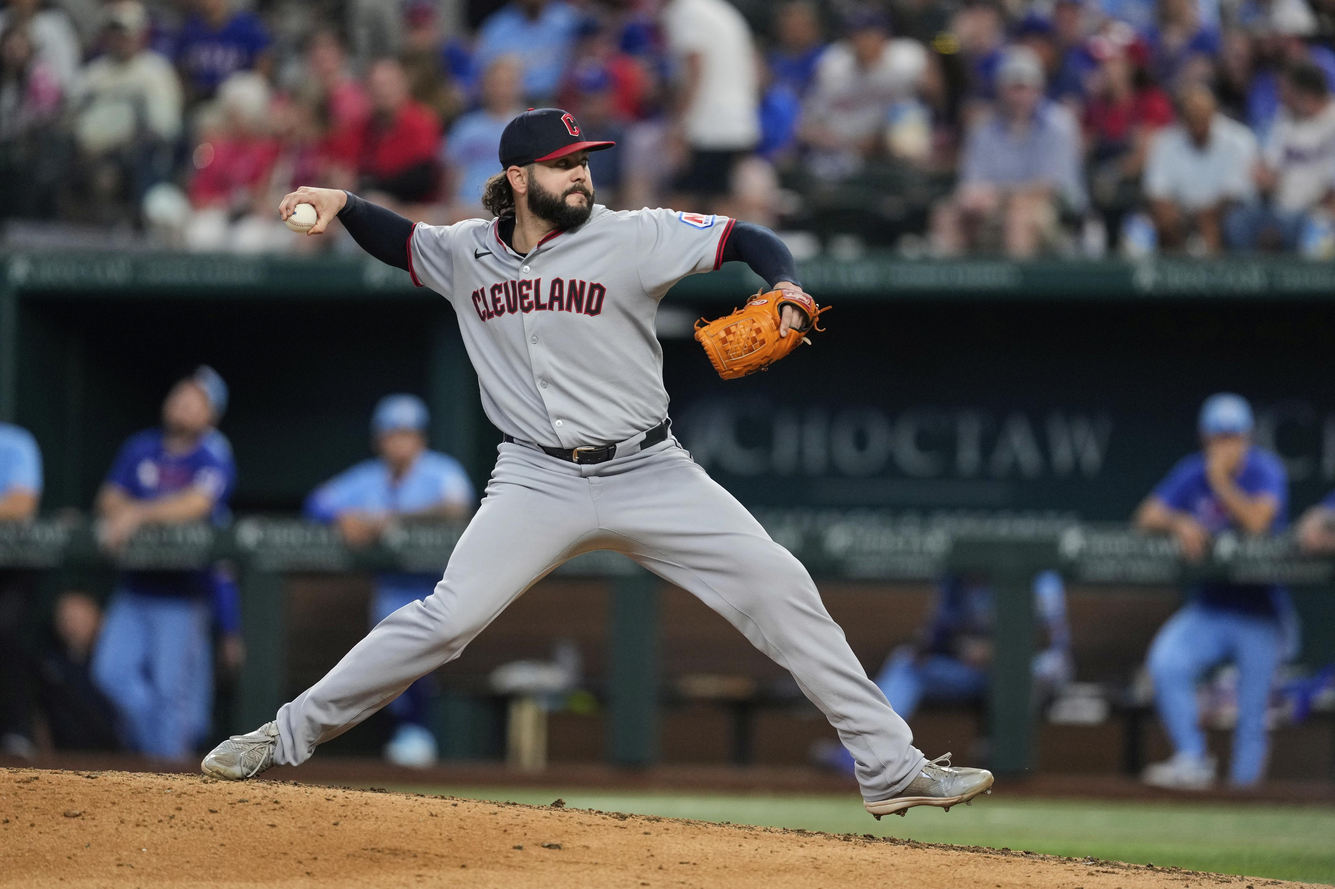baseball: (286, 201, 320, 235)
